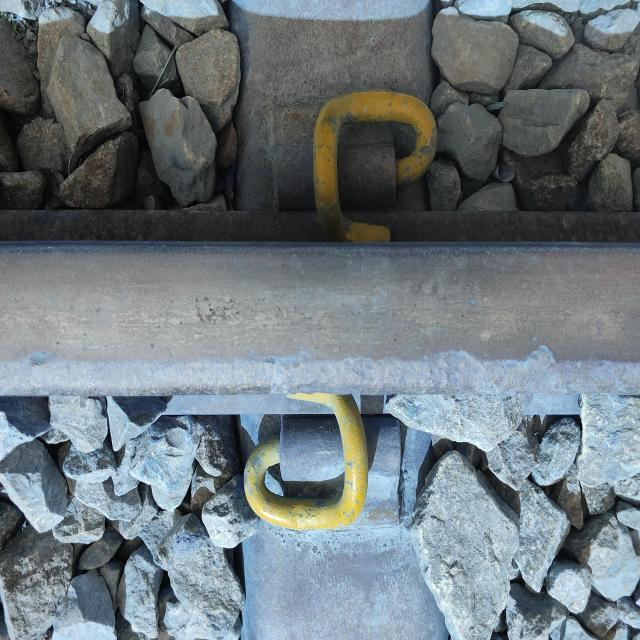head_checks_low: (13, 348, 640, 395)
